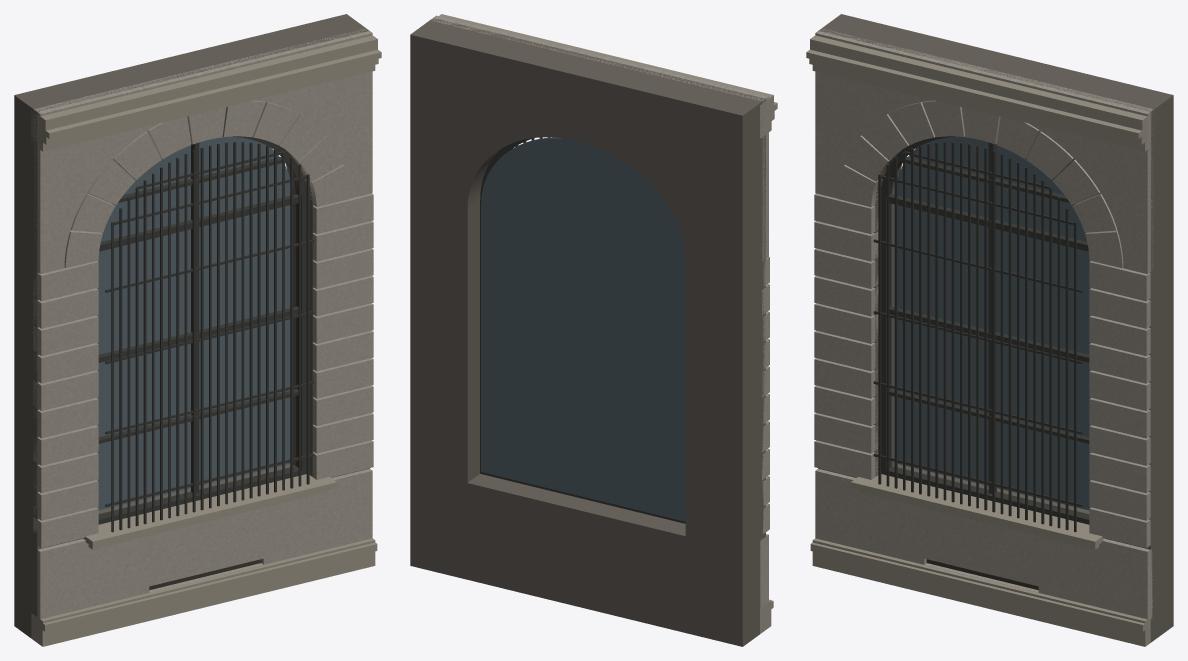
File: huangpu-sanxin-company-street-arch-window-raw.glb
The picture shows the model from 3 angles, left to right: view 1: azimuth 30°, elevation 25°; view 2: azimuth 150°, elevation 25°; view 3: azimuth 330°, elevation 25°; orthographic projection.
Parts seen in each view (by area): view 1: 中新公司大楼沿街石券窗与铁窗栅; view 2: 中新公司大楼沿街石券窗与铁窗栅; view 3: 中新公司大楼沿街石券窗与铁窗栅.
Boxes of the visible parts, x1,y1,x2,y2 form: 中新公司大楼沿街石券窗与铁窗栅: (14, 14, 381, 646); 中新公司大楼沿街石券窗与铁窗栅: (410, 14, 777, 646); 中新公司大楼沿街石券窗与铁窗栅: (806, 14, 1173, 646).
Size of the model in its own units: 3.02 by 4.61 by 0.55.
7 materials, 1 textured.
